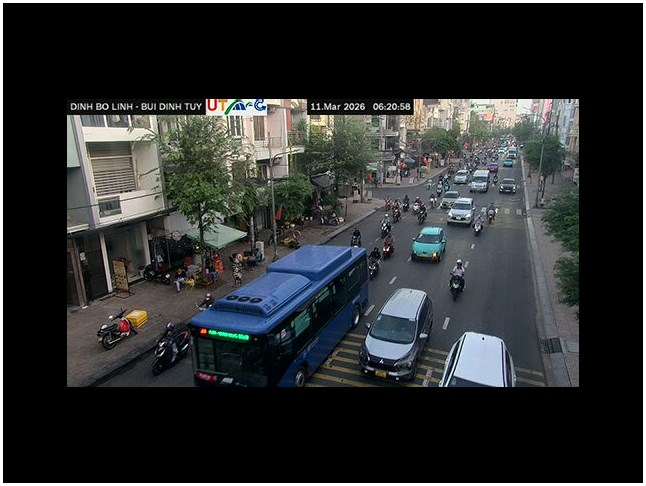bus: (187, 243, 371, 385)
car: (358, 287, 434, 380), (416, 330, 517, 387), (410, 226, 447, 263), (447, 200, 475, 226), (468, 172, 488, 193), (498, 179, 518, 194), (453, 172, 470, 184)
motorbike: (96, 307, 149, 351), (151, 322, 191, 376), (448, 268, 466, 300), (448, 262, 466, 292), (382, 232, 395, 259)
